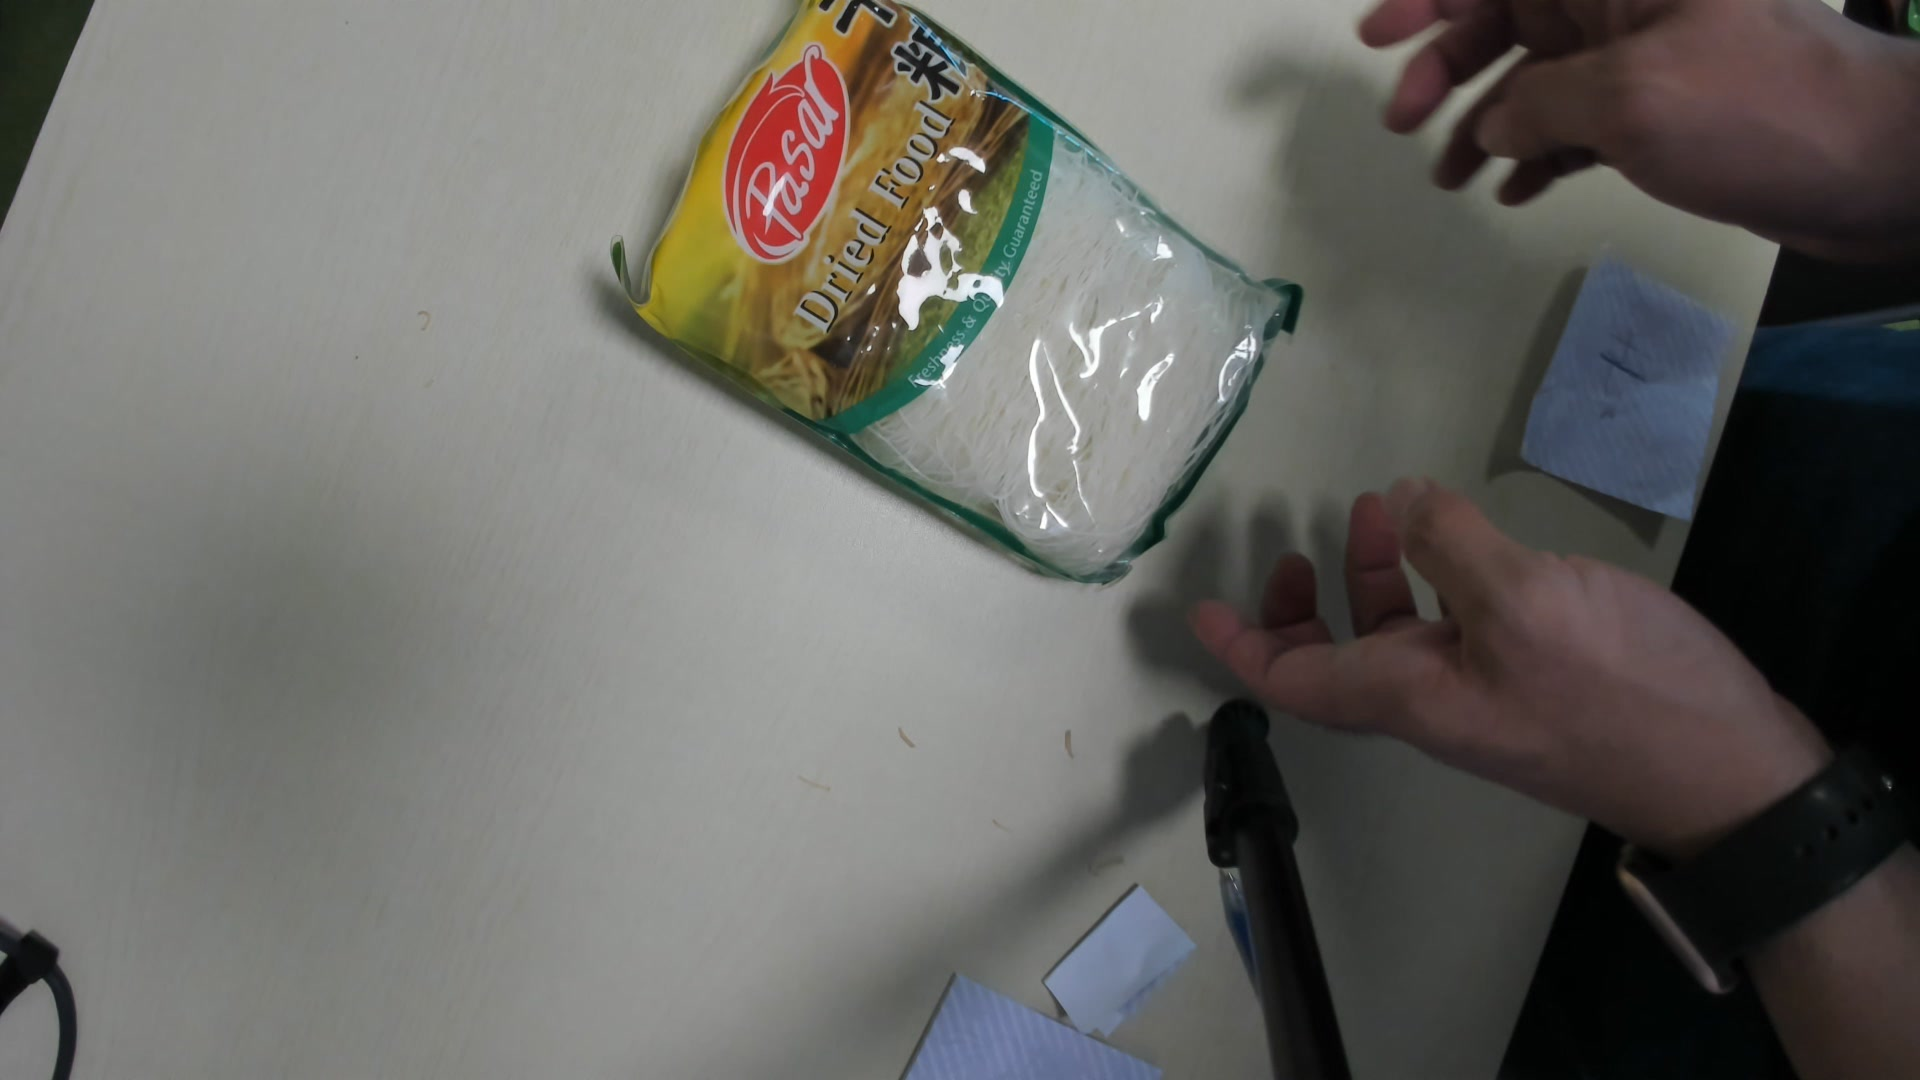BeeHoonVermicelli_100-199g_NonHalal_NonHealthy: (611, 3, 1287, 585)
